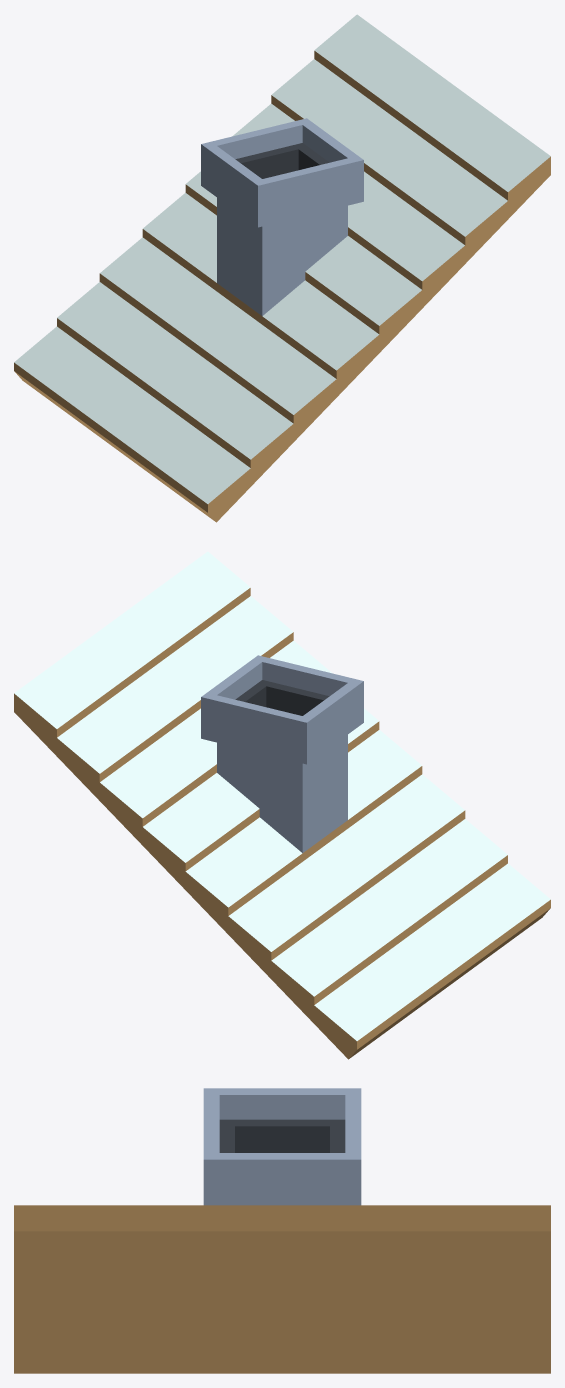
The model's file is cabinRoofChimney.fbx.
3 views of the same model, one above another, from view 1: azimuth 30°, elevation 25°; view 2: azimuth 150°, elevation 25°; view 3: azimuth 270°, elevation 25° (orthographic). The views are drawn at different scales.
Parts seen in each view (by area): view 1: cabinRoofChimney; view 2: cabinRoofChimney; view 3: cabinRoofChimney.
Part boxes in pixels (left/top/right/bottom): cabinRoofChimney: left=14, top=14, right=550, bottom=522; cabinRoofChimney: left=14, top=551, right=550, bottom=1059; cabinRoofChimney: left=14, top=1088, right=550, bottom=1373.
Size of the model in its own units: 12.05 by 9.56 by 11.8.
